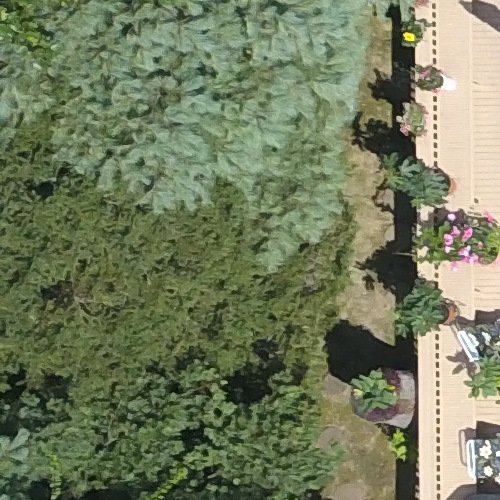flower pot: (412, 59, 464, 101), (426, 288, 464, 332), (426, 159, 463, 204)
